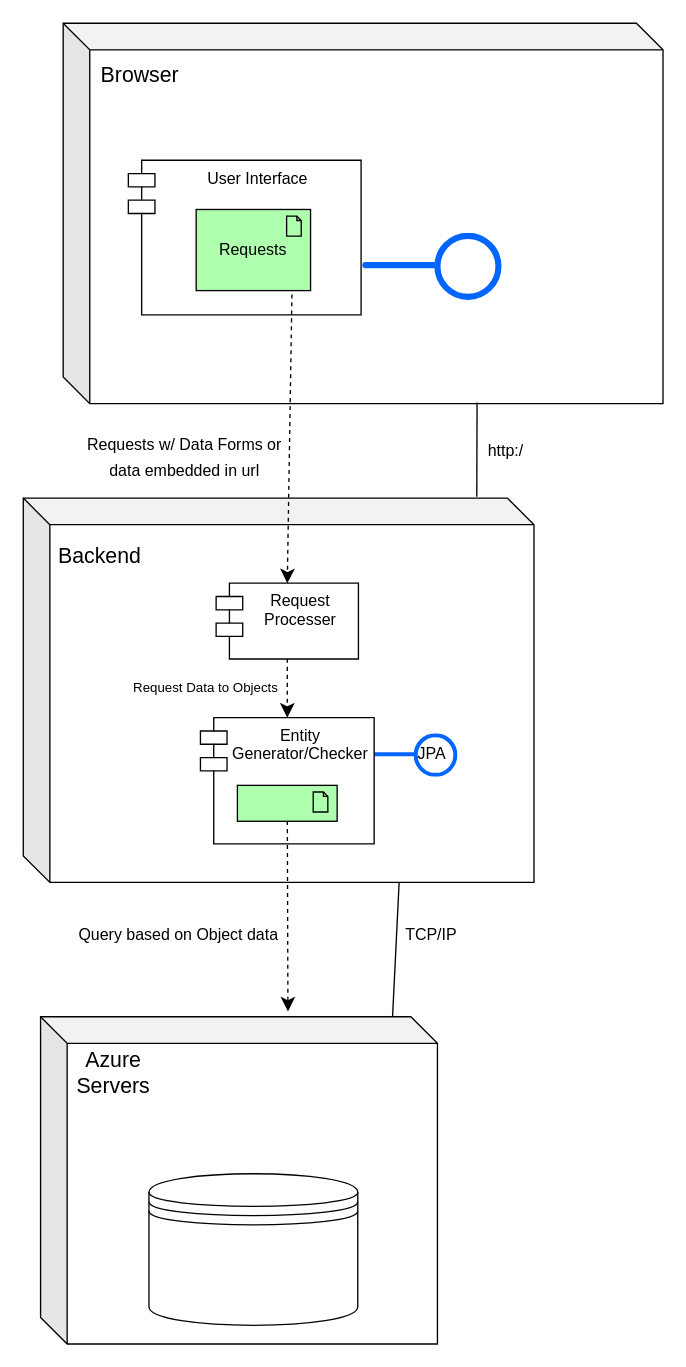
This 686x1367 diagram has some shape labels left out. Here are the shapes that lost their labels. From the top down, the centre of each, then its label:
At [431,266]: "Google API".
At [286,802]: "Object".
At [253,1248]: "Azure DB".
